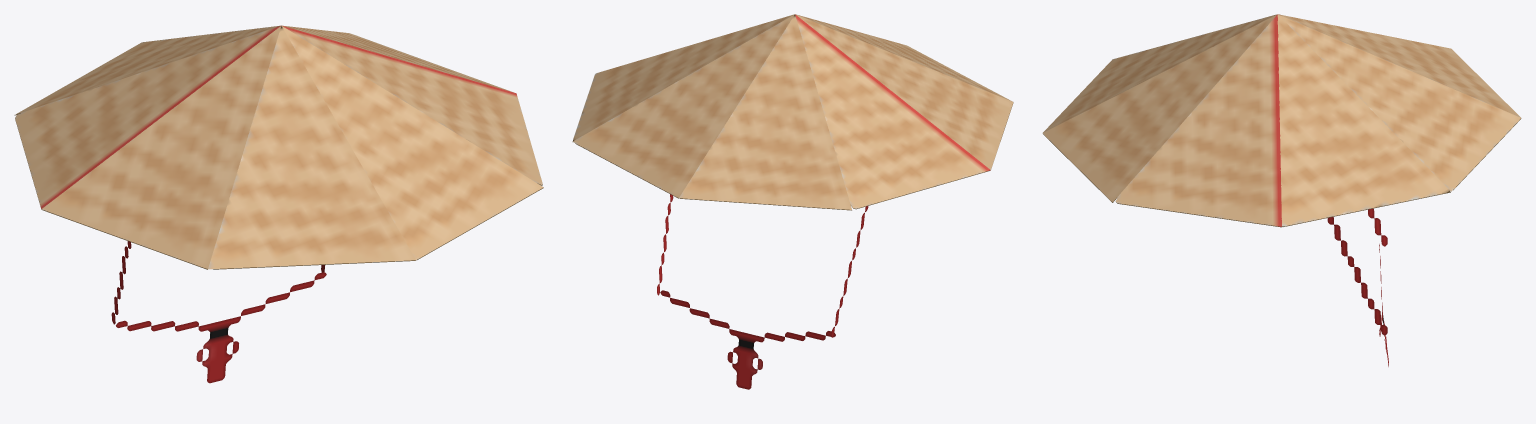
File: vietnamese_basic_h.obj
3 renders of one model, left to right at view 1: azimuth 30°, elevation 25°; view 2: azimuth 150°, elevation 25°; view 3: azimuth 270°, elevation 25°, orthographic. The views are drawn at different scales.
Parts seen in each view (by area): view 1: plane; view 2: plane; view 3: plane.
Boxes of the visible parts, left/top/right/bottom form: plane: left=14, top=25, right=543, bottom=383; plane: left=572, top=14, right=1013, bottom=389; plane: left=1042, top=14, right=1521, bottom=366.
Bounding box in the file's own units: 1.22 × 0.985 × 1.22.
